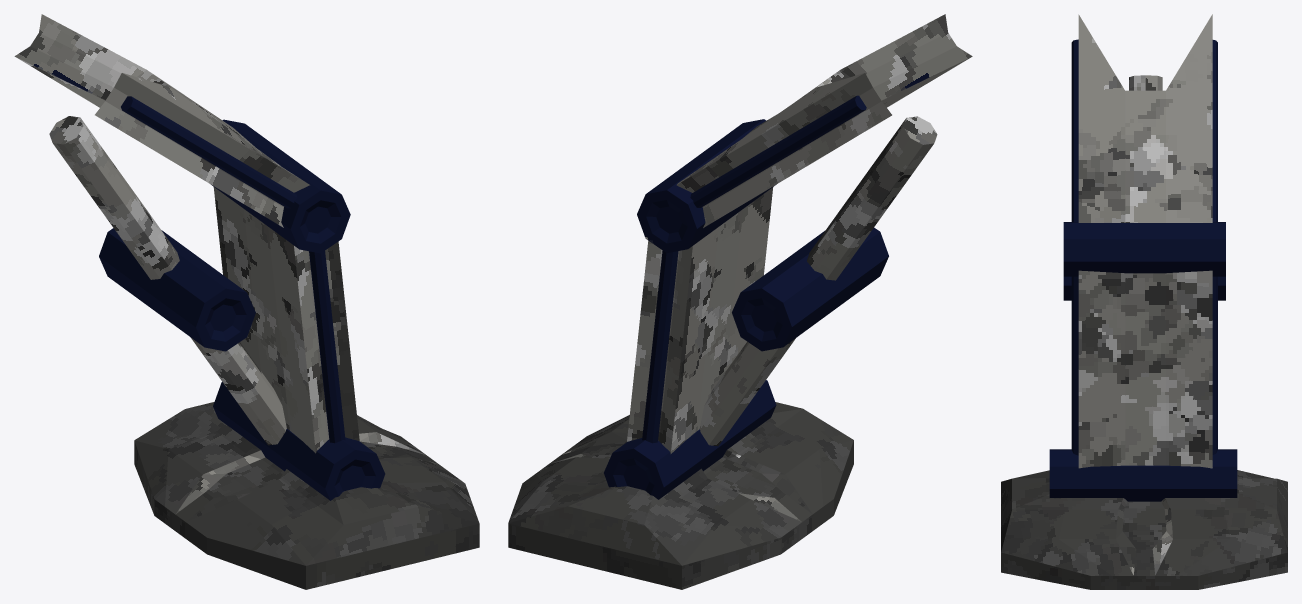
The model's file is F7RearLandingGear.glb.
The picture shows the model from 3 angles, left to right: view 1: azimuth 30°, elevation 25°; view 2: azimuth 150°, elevation 25°; view 3: azimuth 270°, elevation 25°; orthographic projection. The views are drawn at different scales.
Visible parts, largest first — view 1: Rear Landing Foot, Cube.097, Cube.098, Cylinder.028, Cylinder.029, Cylinder.010, Cylinder.024, Cylinder.027, Cylinder.026, Cylinder.025; view 2: Rear Landing Foot, Cube.097, Cube.098, Cylinder.028, Cylinder.029, Cylinder.010, Cylinder.024, Cylinder.027, Cylinder.026, Cylinder.025; view 3: Rear Landing Foot, Cube.097, Cube.098, Cylinder.024, Cylinder.010, Cylinder.026, Cylinder.025, Cylinder.029, Cylinder.028.
Part boxes in pixels (bbox=[...]): Rear Landing Foot: bbox=[134, 402, 479, 589]; Cube.097: bbox=[213, 187, 359, 453]; Cube.098: bbox=[14, 14, 309, 227]; Cylinder.028: bbox=[99, 228, 255, 351]; Cylinder.029: bbox=[49, 116, 179, 279]; Cylinder.010: bbox=[213, 382, 385, 500]; Cylinder.024: bbox=[211, 119, 350, 253]; Cylinder.027: bbox=[190, 337, 286, 445]; Cylinder.026: bbox=[121, 96, 297, 208]; Cylinder.025: bbox=[309, 251, 345, 443]; Rear Landing Foot: bbox=[508, 402, 853, 589]; Cube.097: bbox=[627, 187, 773, 453]; Cube.098: bbox=[676, 14, 972, 227]; Cylinder.028: bbox=[732, 227, 888, 351]; Cylinder.029: bbox=[807, 116, 937, 280]; Cylinder.010: bbox=[604, 380, 776, 499]; Cylinder.024: bbox=[637, 119, 776, 252]; Cylinder.027: bbox=[699, 338, 795, 446]; Cylinder.026: bbox=[690, 95, 866, 207]; Cylinder.025: bbox=[642, 250, 678, 443]; Rear Landing Foot: bbox=[1001, 470, 1287, 589]; Cube.097: bbox=[1078, 270, 1212, 468]; Cube.098: bbox=[1078, 14, 1212, 222]; Cylinder.024: bbox=[1063, 222, 1225, 276]; Cylinder.010: bbox=[1049, 449, 1237, 501]; Cylinder.026: bbox=[1071, 39, 1217, 222]; Cylinder.025: bbox=[1071, 276, 1217, 455]; Cylinder.029: bbox=[1129, 75, 1162, 90]; Cylinder.028: bbox=[1063, 276, 1225, 300].
Bounding box in the file's own units: 5.47 × 7.13 × 4.28.
1 material, 1 textured.
